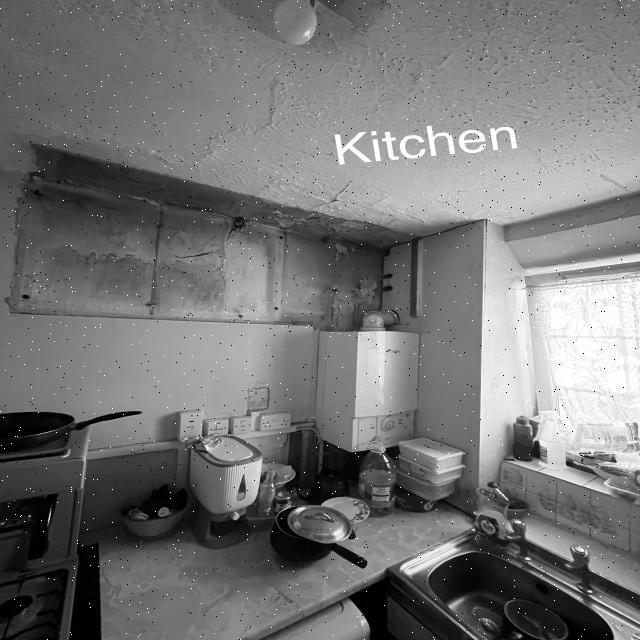stain marks: (0, 188, 157, 322), (150, 212, 282, 332), (286, 232, 389, 339), (43, 138, 159, 186), (157, 177, 279, 210), (278, 196, 374, 230)
